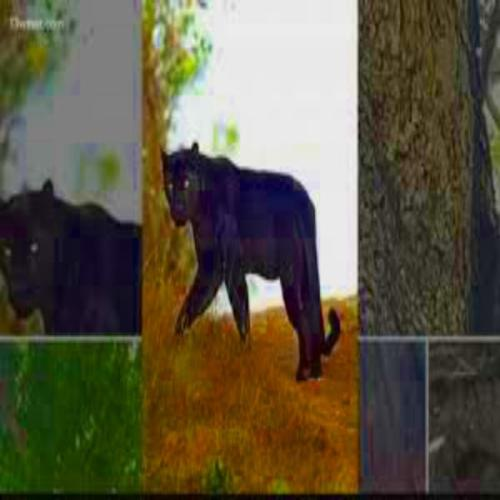panther-endangered: (160, 141, 342, 385), (0, 176, 142, 328)
